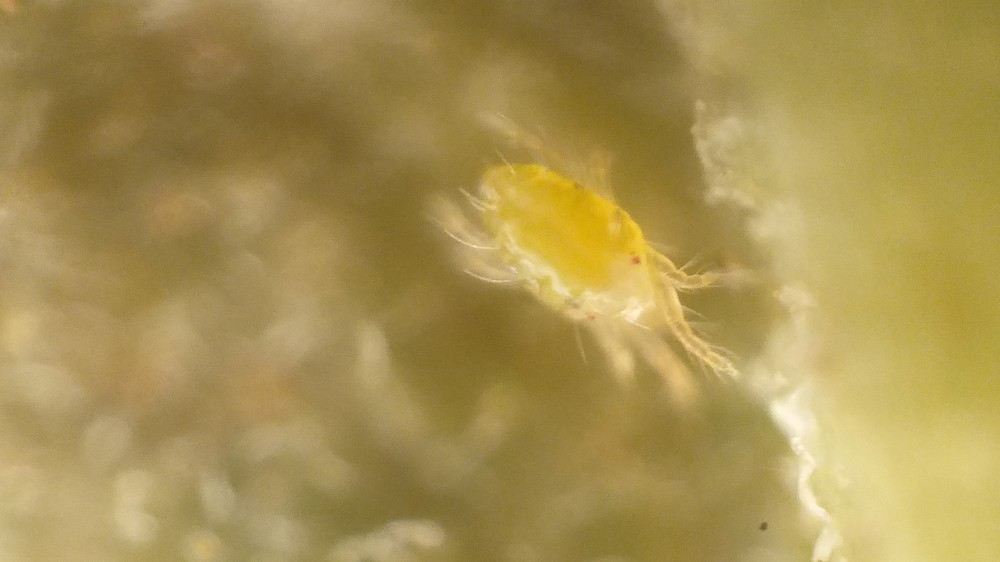Aracnido Rojo: (414, 113, 798, 433)
